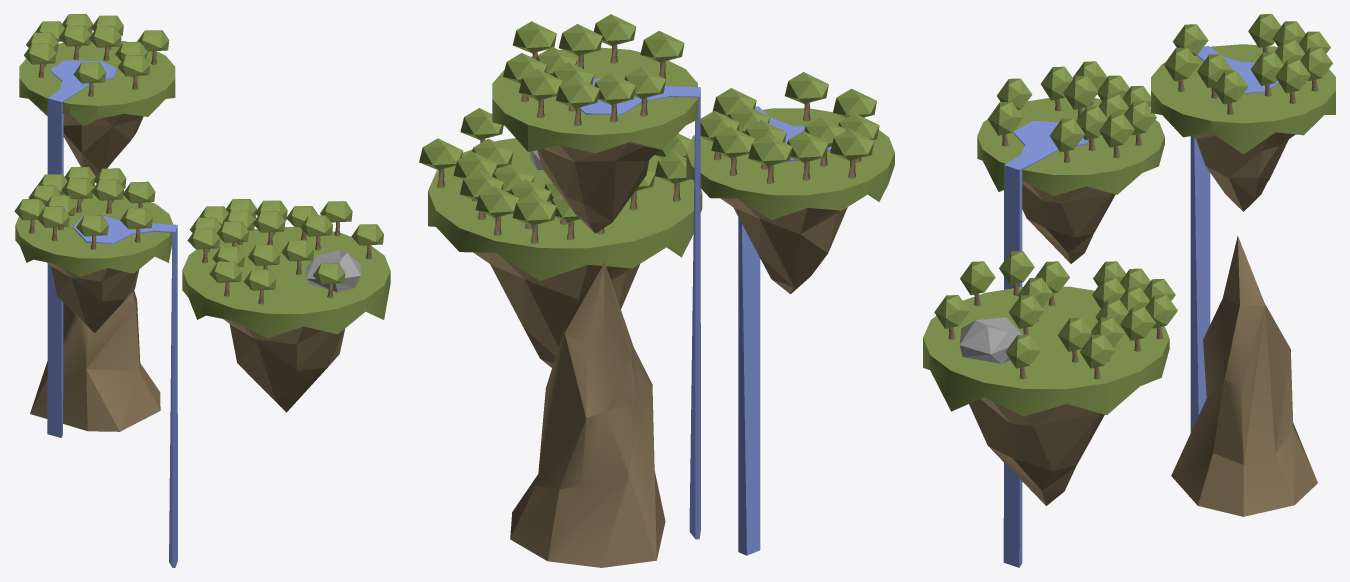
The picture shows the model from 3 angles, left to right: view 1: azimuth 30°, elevation 25°; view 2: azimuth 150°, elevation 25°; view 3: azimuth 270°, elevation 25°; orthographic projection. The views are drawn at different scales.
Visible parts, largest first — view 1: 3DSMeshMatrix (×35); view 2: 3DSMeshMatrix (×39); view 3: 3DSMeshMatrix (×42).
Part boxes in pixels (left/top/right/bottom): 3DSMeshMatrix (×35): left=14, top=25, right=390, bottom=567; 3DSMeshMatrix (×39): left=419, top=14, right=894, bottom=567; 3DSMeshMatrix (×42): left=923, top=14, right=1335, bottom=567.
Bounding box in the file's own units: 451 × 570 × 400.
